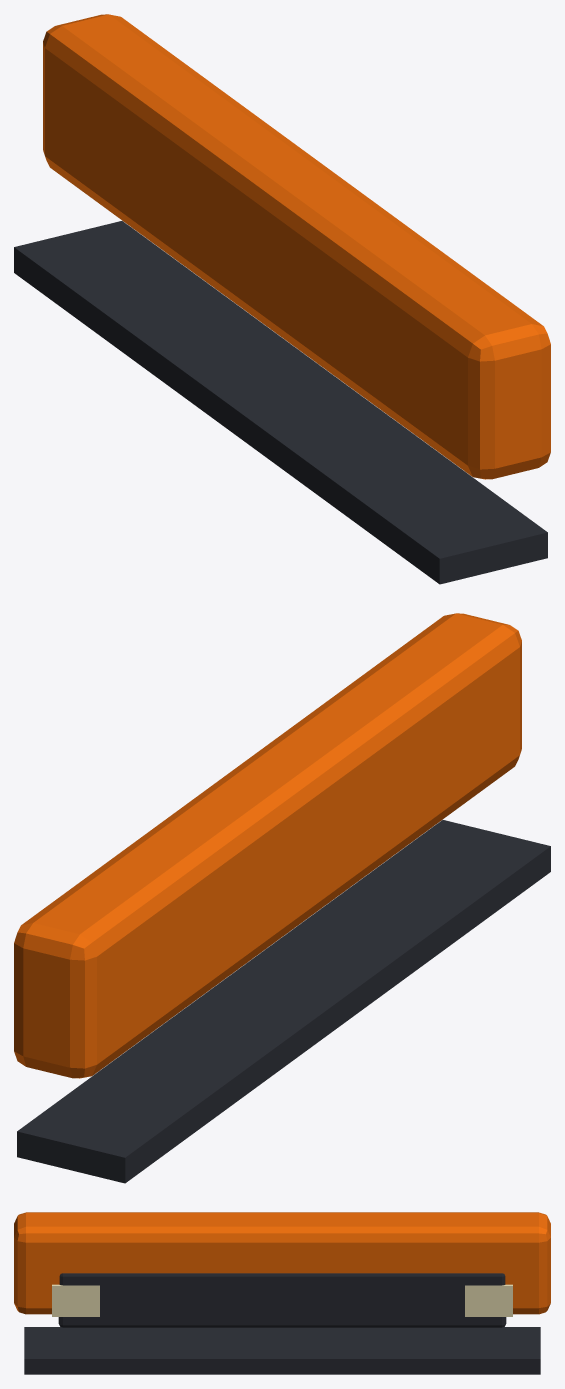
File: bumper_f.obj
The picture shows the model from 3 angles, top to bottom: view 1: azimuth 30°, elevation 25°; view 2: azimuth 150°, elevation 25°; view 3: azimuth 270°, elevation 25°; orthographic projection. The views are drawn at different scales.
Visible parts, largest first — view 1: Cube; view 2: Cube; view 3: Cube.
Boxes of the visible parts, x1=… form: Cube: x1=14, y1=14, x2=550, y2=584; Cube: x1=14, y1=613, x2=550, y2=1183; Cube: x1=14, y1=1212, x2=550, y2=1374.
Size of the model in its own units: 0.2325 by 0.46 by 1.56.
